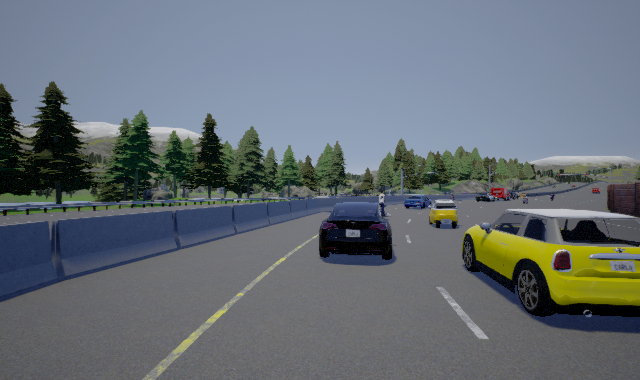bike: (377, 191, 391, 218)
vehicle: (462, 209, 640, 317), (319, 202, 392, 260), (428, 198, 459, 230), (403, 195, 431, 210), (490, 188, 519, 200), (474, 192, 495, 202)
